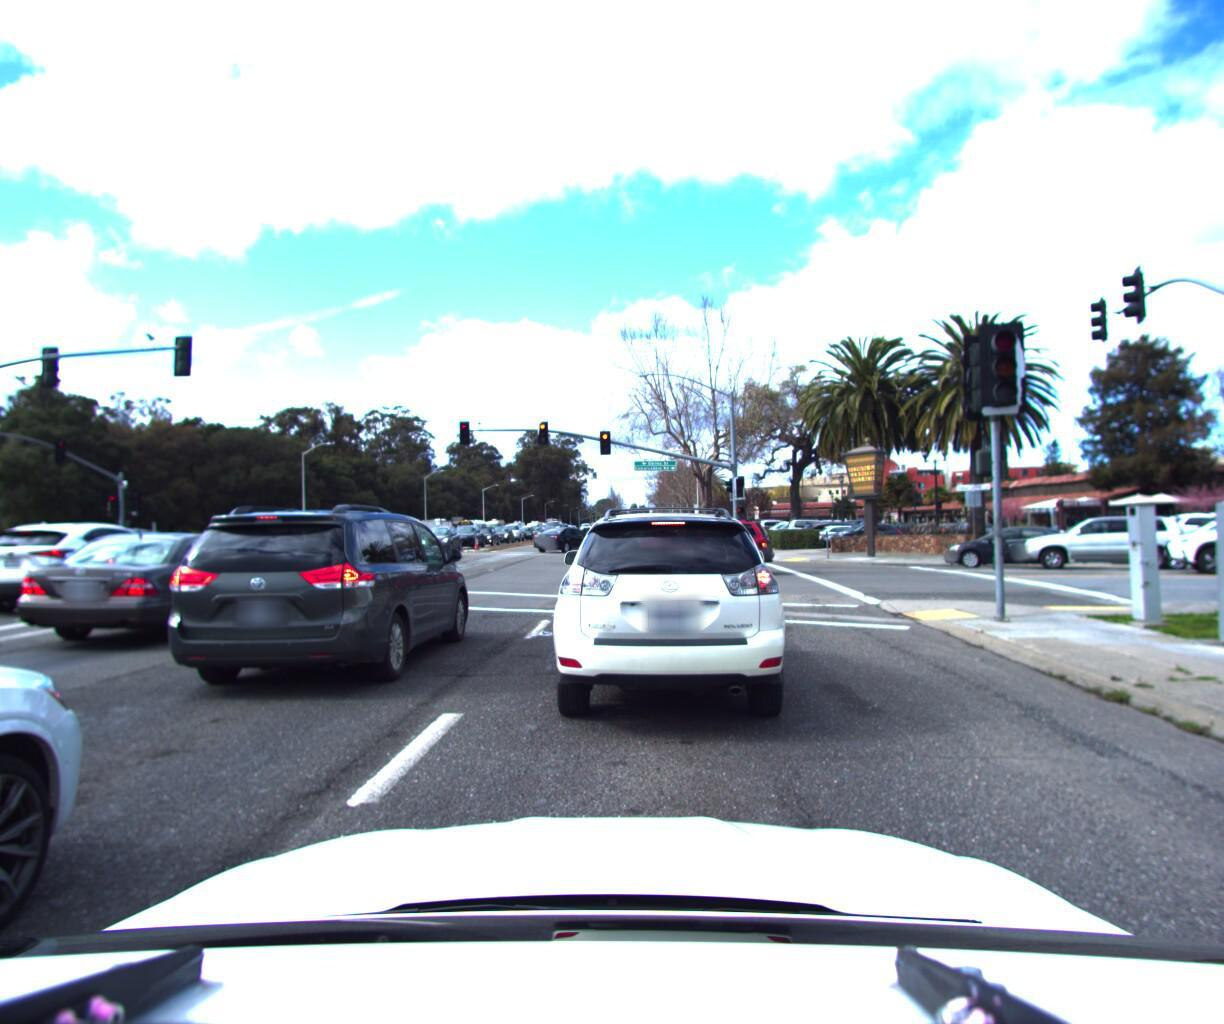car: (534, 491, 801, 745), (155, 499, 484, 702), (8, 530, 306, 659), (0, 523, 204, 626), (0, 529, 176, 600), (1012, 503, 1187, 573), (618, 513, 776, 577), (942, 522, 1075, 569), (1133, 506, 1224, 568), (1151, 505, 1224, 579), (832, 519, 921, 551), (1159, 505, 1224, 548), (816, 522, 898, 549), (534, 524, 601, 556), (801, 519, 879, 546), (422, 526, 468, 554), (449, 526, 490, 551), (470, 529, 506, 548), (503, 522, 532, 542)
other_vehicle: (330, 513, 399, 551)
